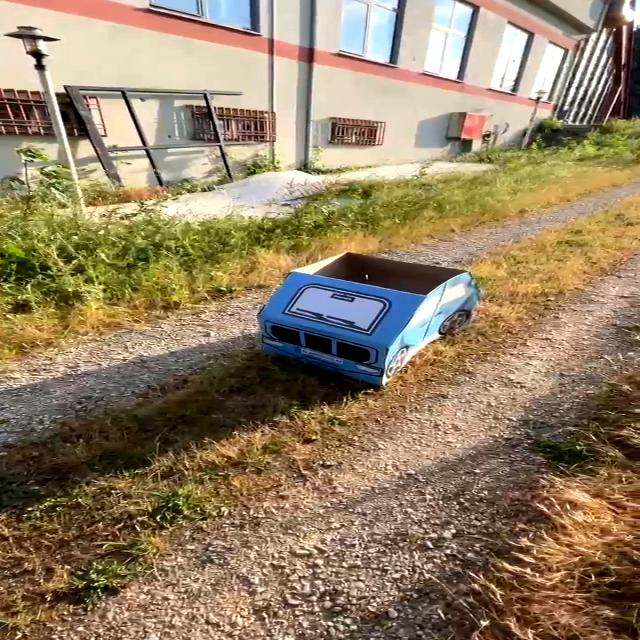blue_car: (174, 228, 532, 400)
